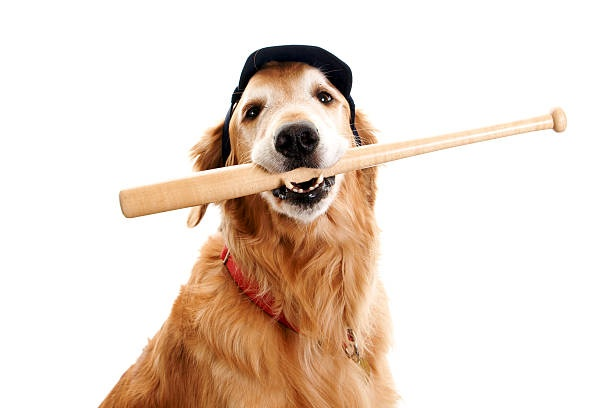bita: (116, 111, 571, 216)
